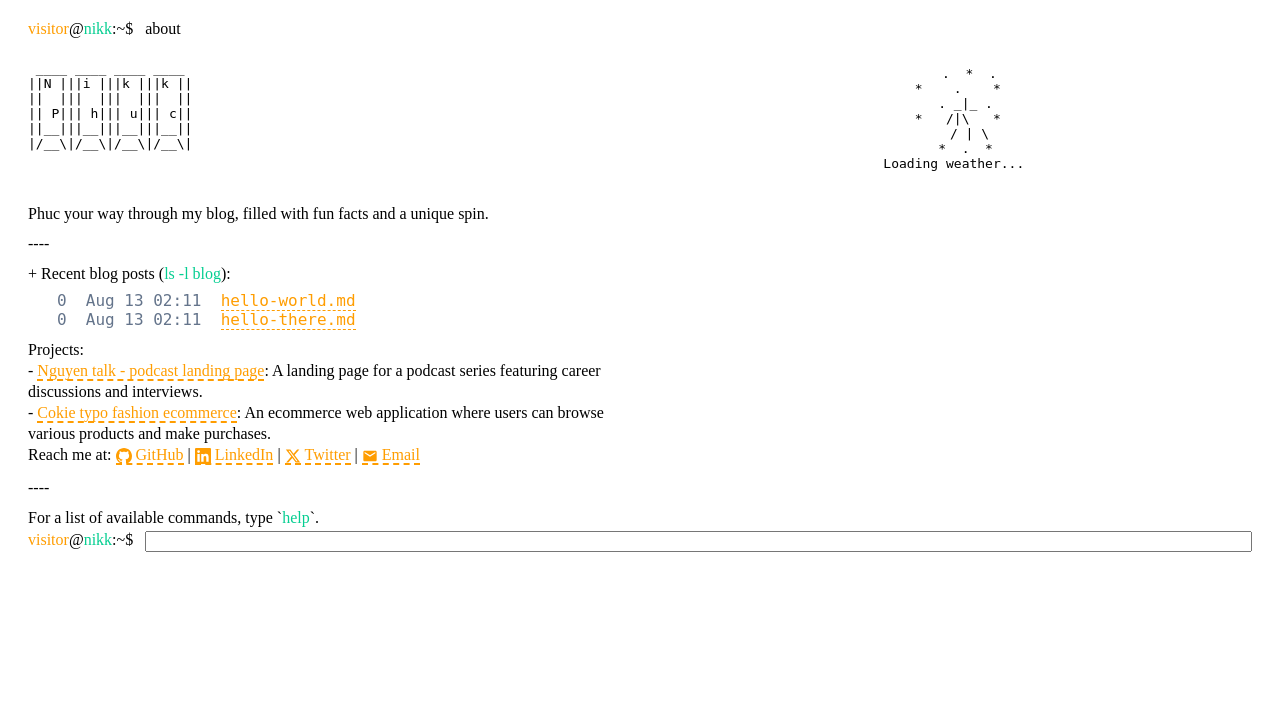
it: Terminal component › tab cycling behavior › cycles through multiple matching commands on repeated Tab presses
Note: 'c' matches cat, clear
Type "c" into the field titled "terminal-input" at (699, 542), box [145,531,1252,552]
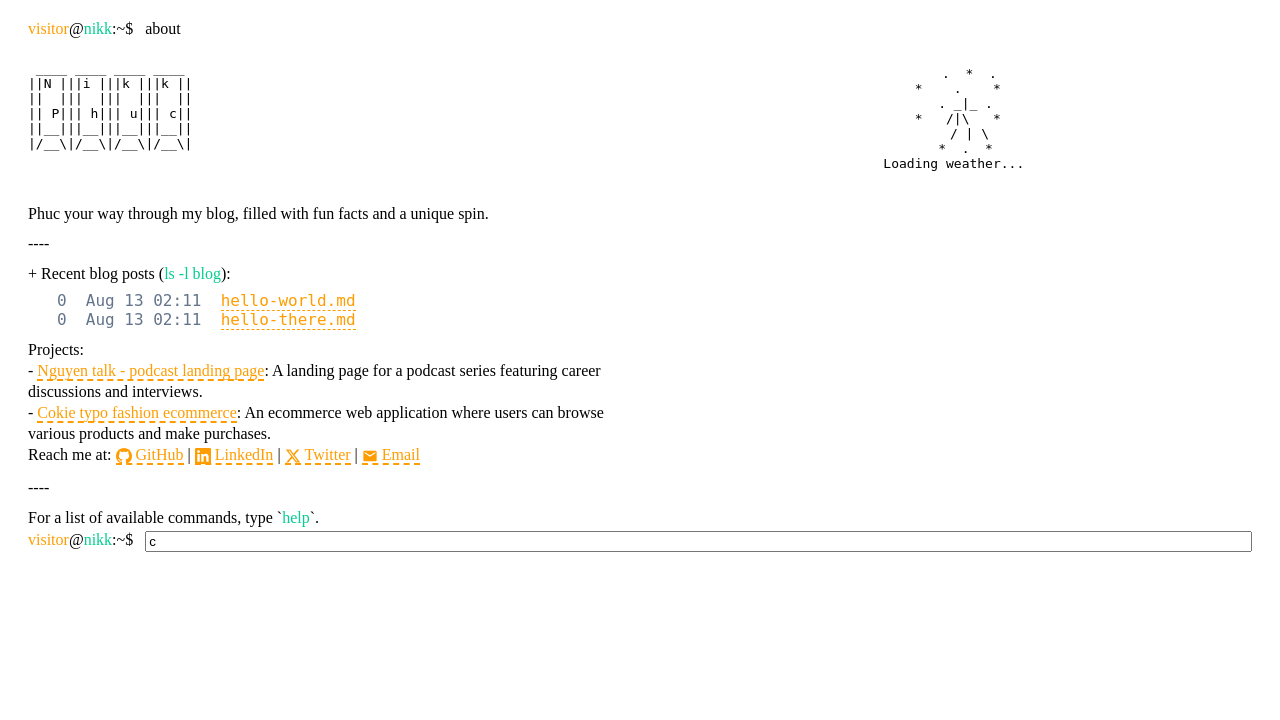
Note: First Tab - selects first match (cat)
Press Tab in the field titled "terminal-input", box [145,531,1252,552]
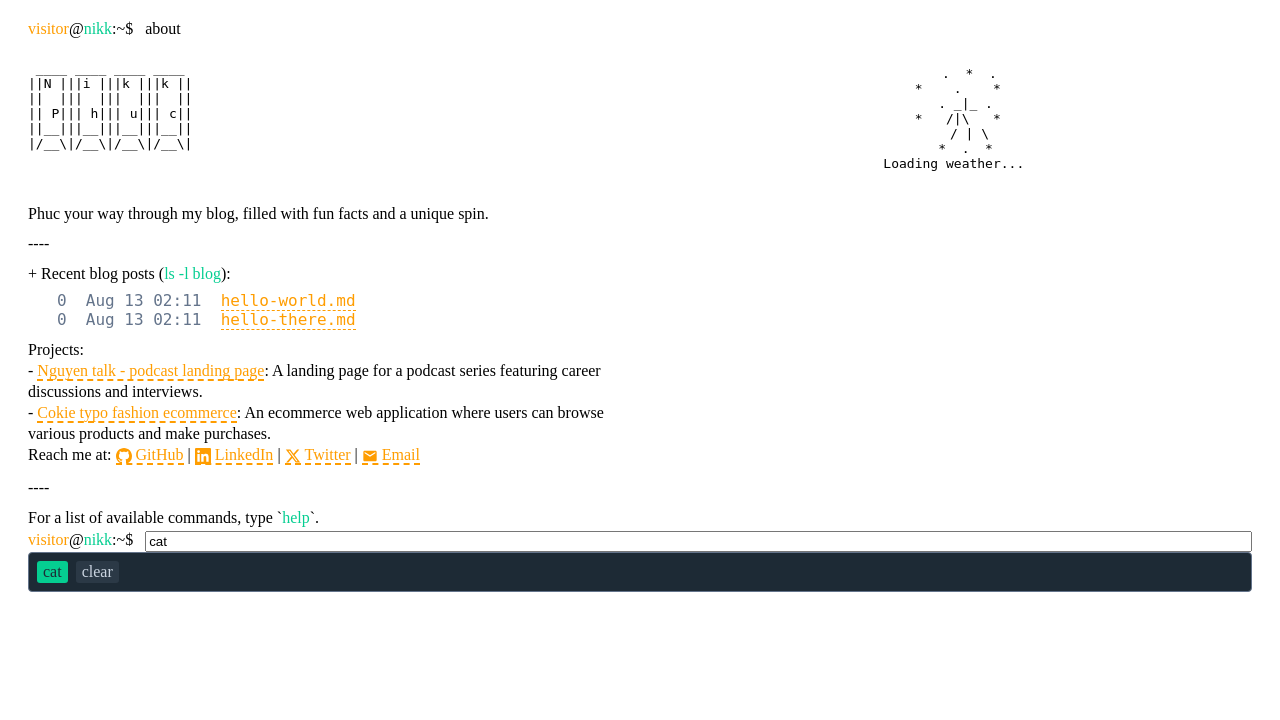
Result: the field titled "terminal-input" holds "cat"
Note: Second Tab - cycles to next match (clear)
Press Tab in the field titled "terminal-input", box [145,531,1252,552]
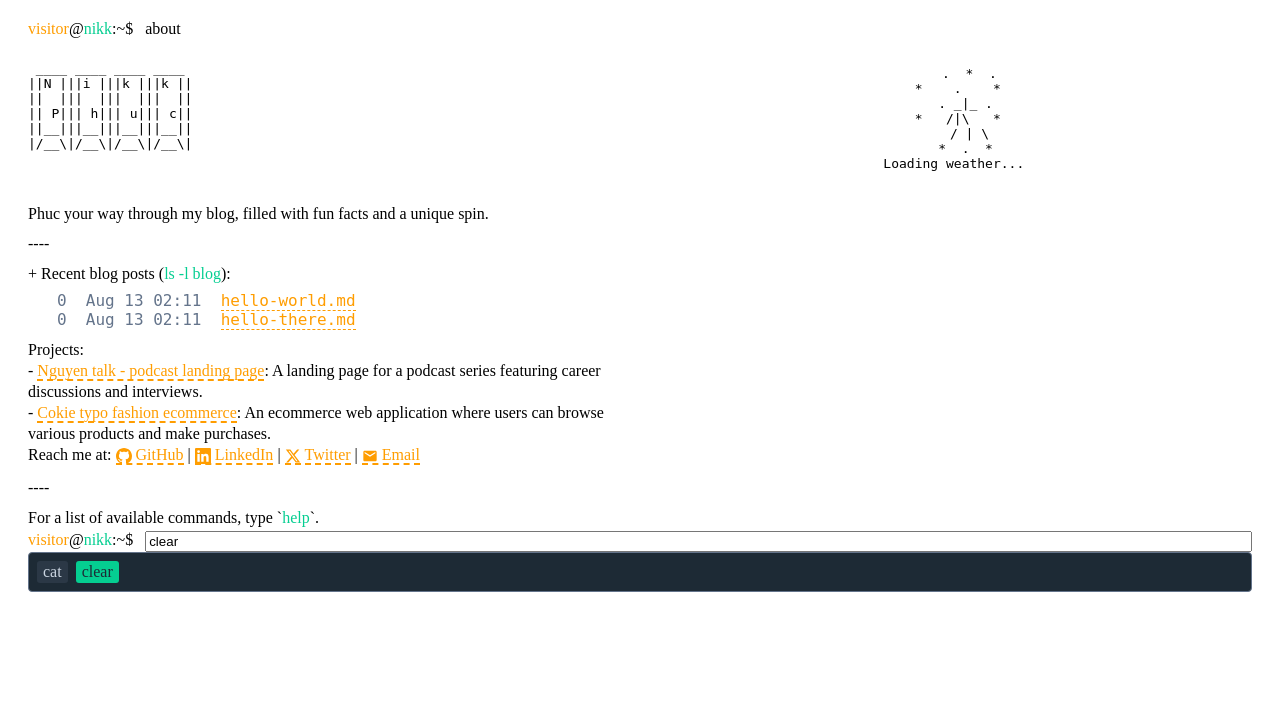
Result: the field titled "terminal-input" holds "clear"
Note: Third Tab - cycles back to first (cat)
Press Tab in the field titled "terminal-input", box [145,531,1252,552]
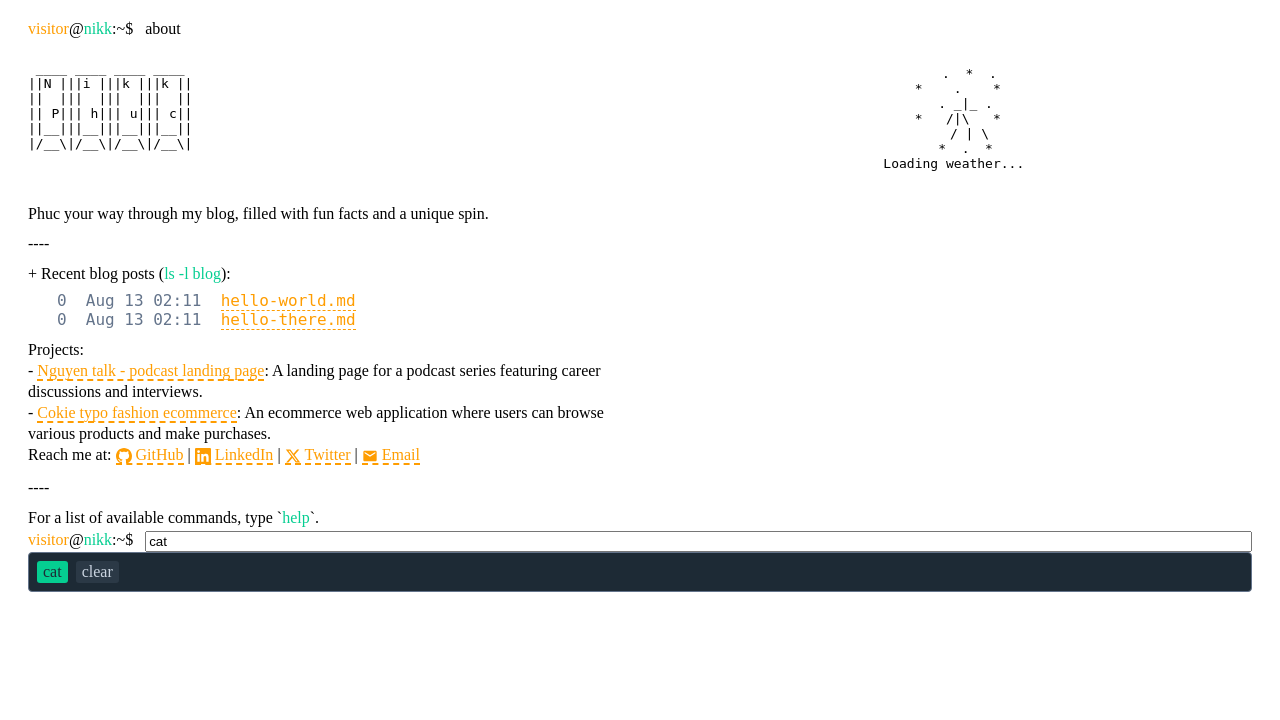
Result: the field titled "terminal-input" holds "cat" at [145,531,1252,552]
